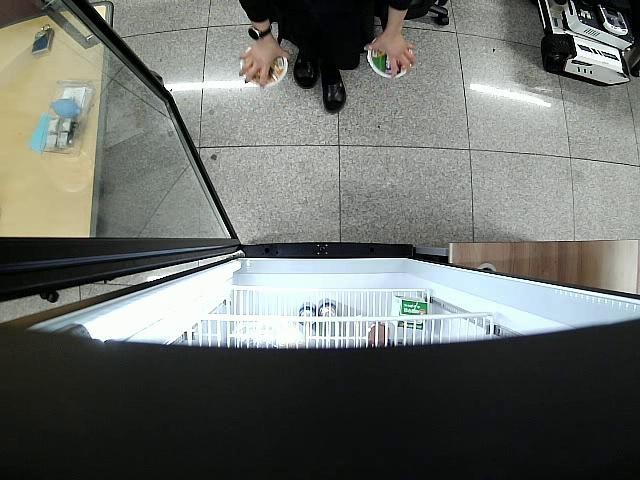09_yukGaeJang: (238, 48, 286, 85), (368, 48, 413, 77)
